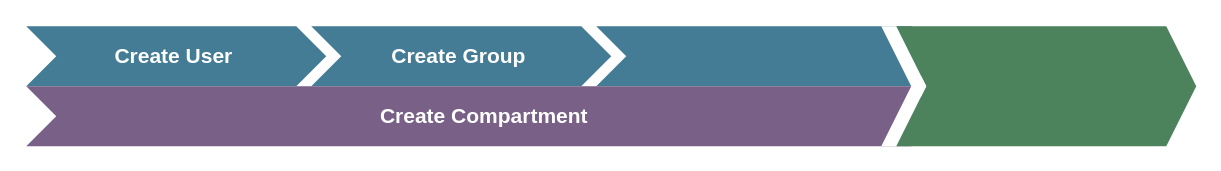
This 1221x171 diagram has some shape labels left out. The box of each missing label's shape, as (x1, y1, x2, y2) in pixels:
Add user to group: (596, 26, 940, 86)
Create policies for group on compartment: (896, 26, 1196, 146)
